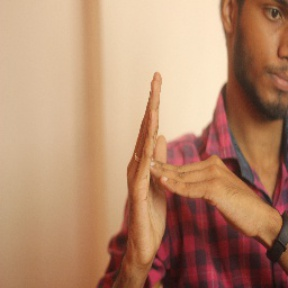Z: (116, 61, 252, 263)
